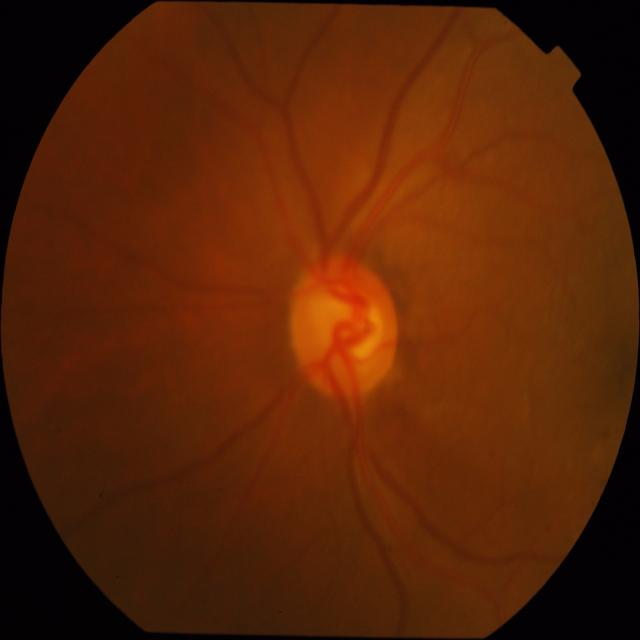OC: (331, 287, 384, 361)
OD: (288, 255, 399, 397)
